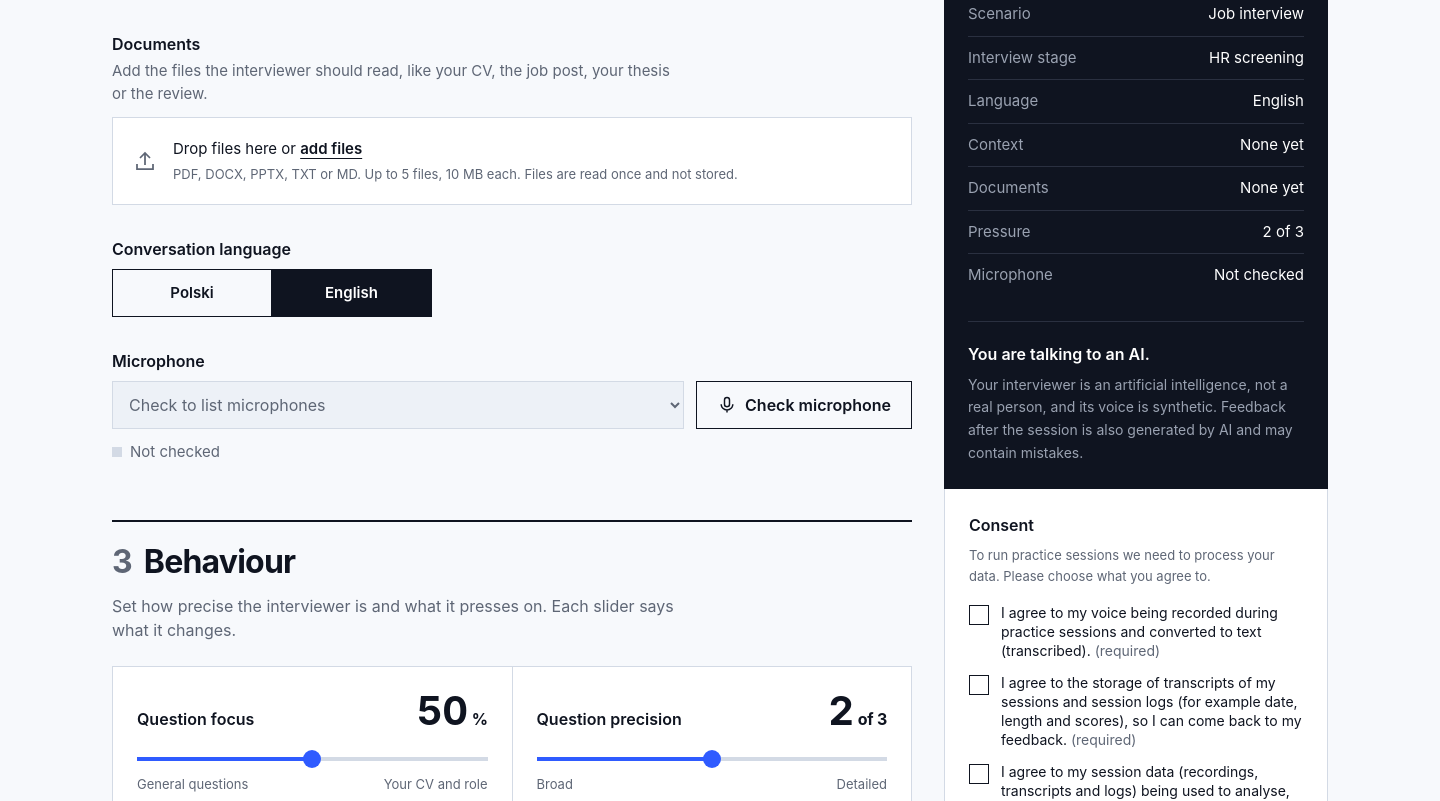
Test: checks and selects microphones, then releases the stream
(page scrolled)
Click the button "Check microphone".
click(804, 405)  # box [696, 381, 912, 429]
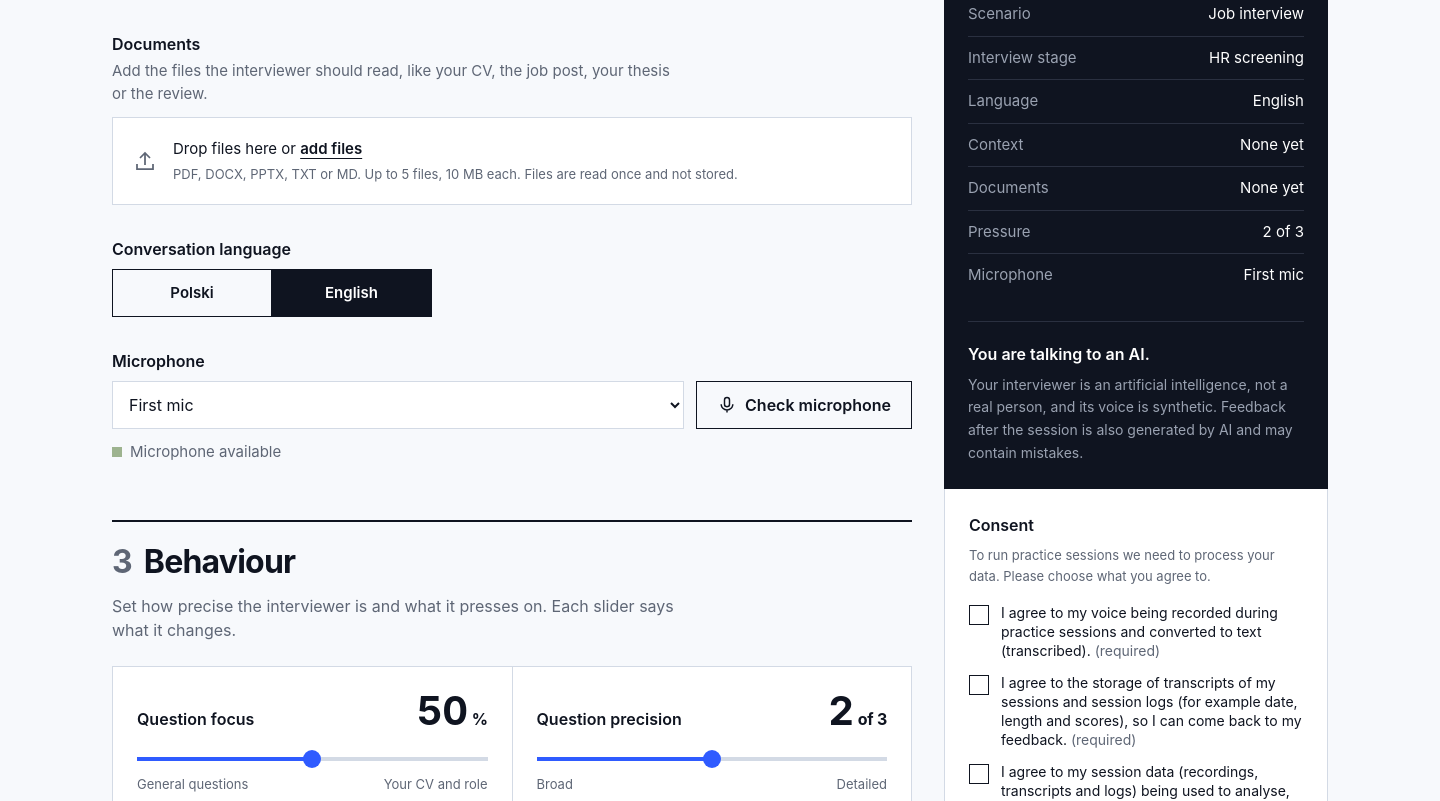
Expected: the text "Microphone available" is shown, [112, 441, 281, 464]
Select "Second mic" in the dropdown labelled "Microphone" at (398, 405), box [112, 381, 684, 429]
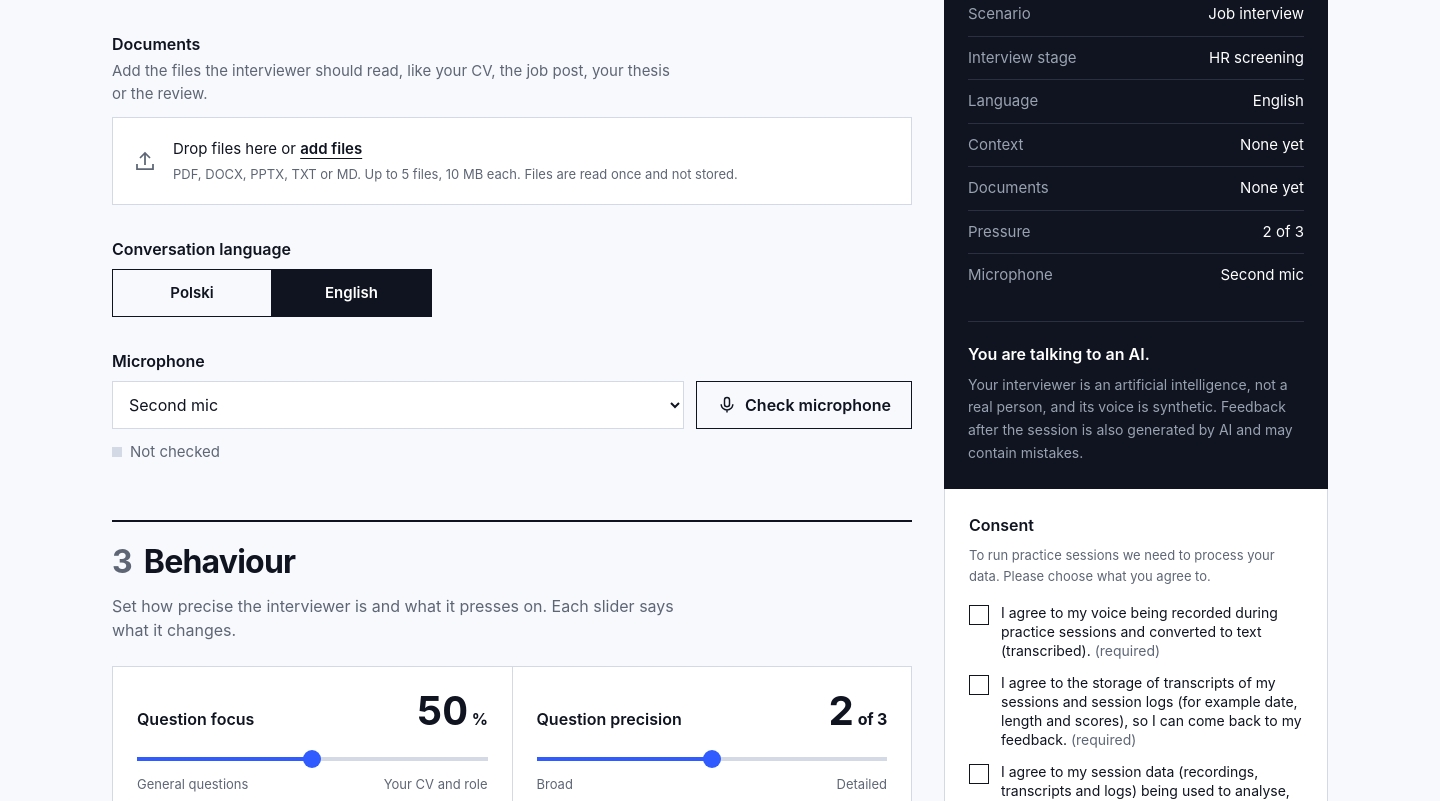
Click the button "Check microphone".
click(804, 405)  # box [696, 381, 912, 429]
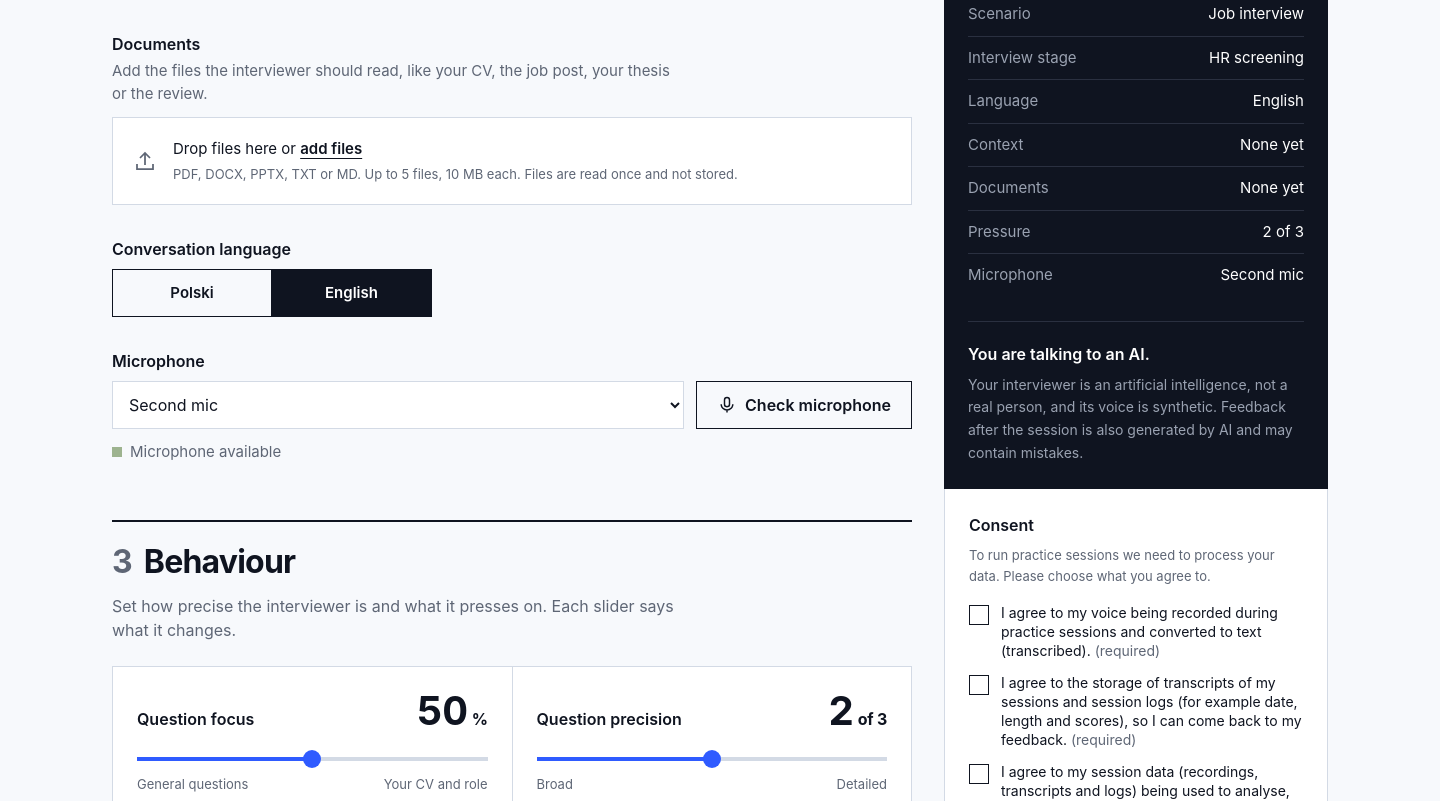
Expected: the text "Microphone available" is shown, [112, 441, 281, 464]
